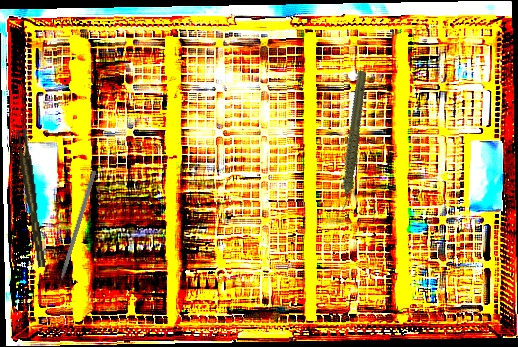Handpiece: (307, 69, 395, 214)
Hook Surgical: (53, 169, 97, 295)
Tissue Forceps: (16, 128, 46, 269)
